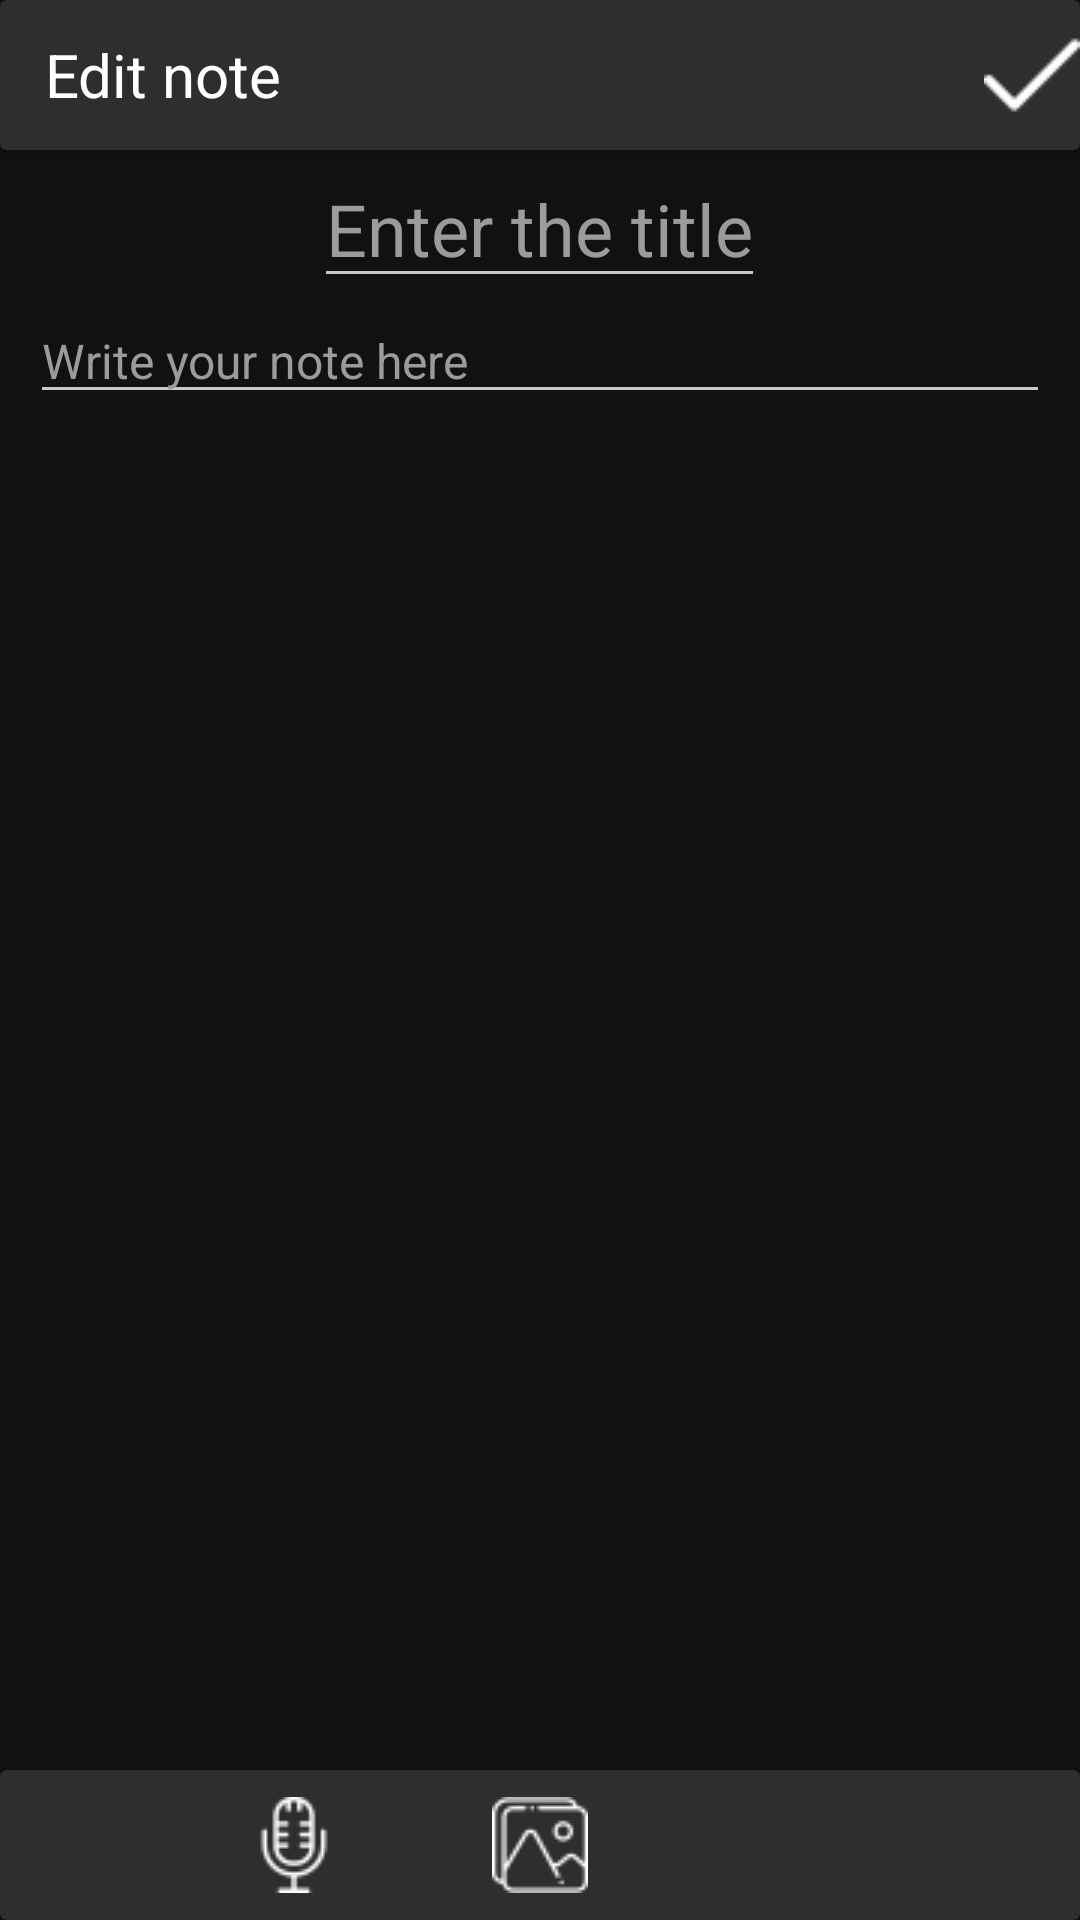

Named icons in this screenshot (1080px×1920px) and their bounding boxes, bbox=(x1, y1, x2, y2):
confirm: bbox=(984, 38, 1080, 112)
gallery: bbox=(492, 1797, 588, 1893)
microphone: bbox=(260, 1797, 328, 1893)
